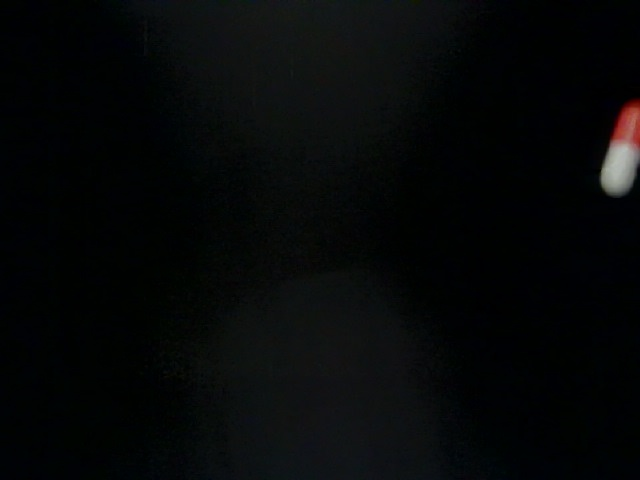YHLJ: (267, 301, 560, 401)
